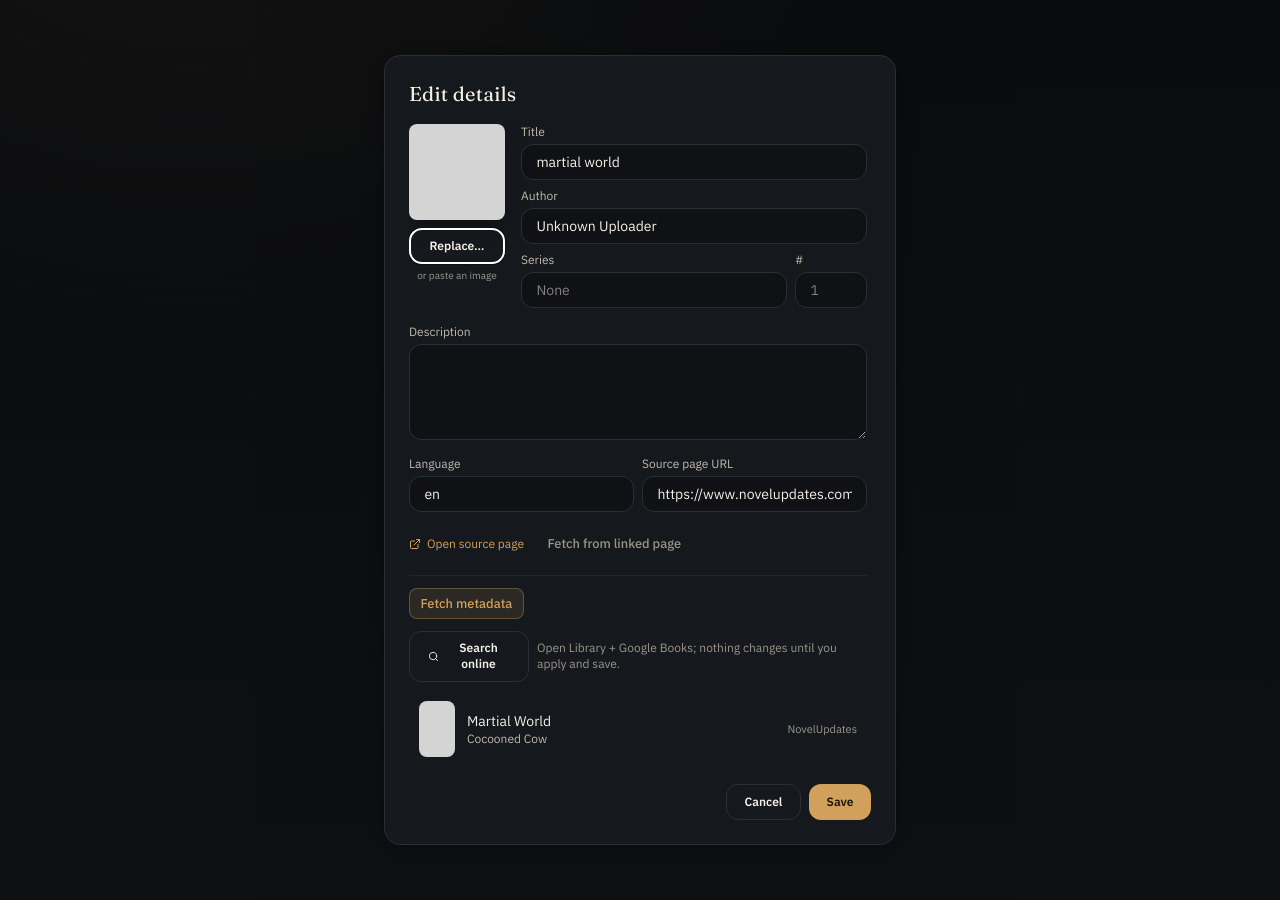
Scenario: EditBookDialog › fills candidate, source URL, and cover from an extension clipboard payload
The image size is (1280, 900).
Expected: the field labelled "Source page URL" holds "https://www.novelupdates.com/series/martial-world/", [642, 476, 867, 512]
Click the button "Martial World Cocooned Cow NovelUpdates".
click(437, 729)  # box [409, 694, 867, 764]
(page scrolled)
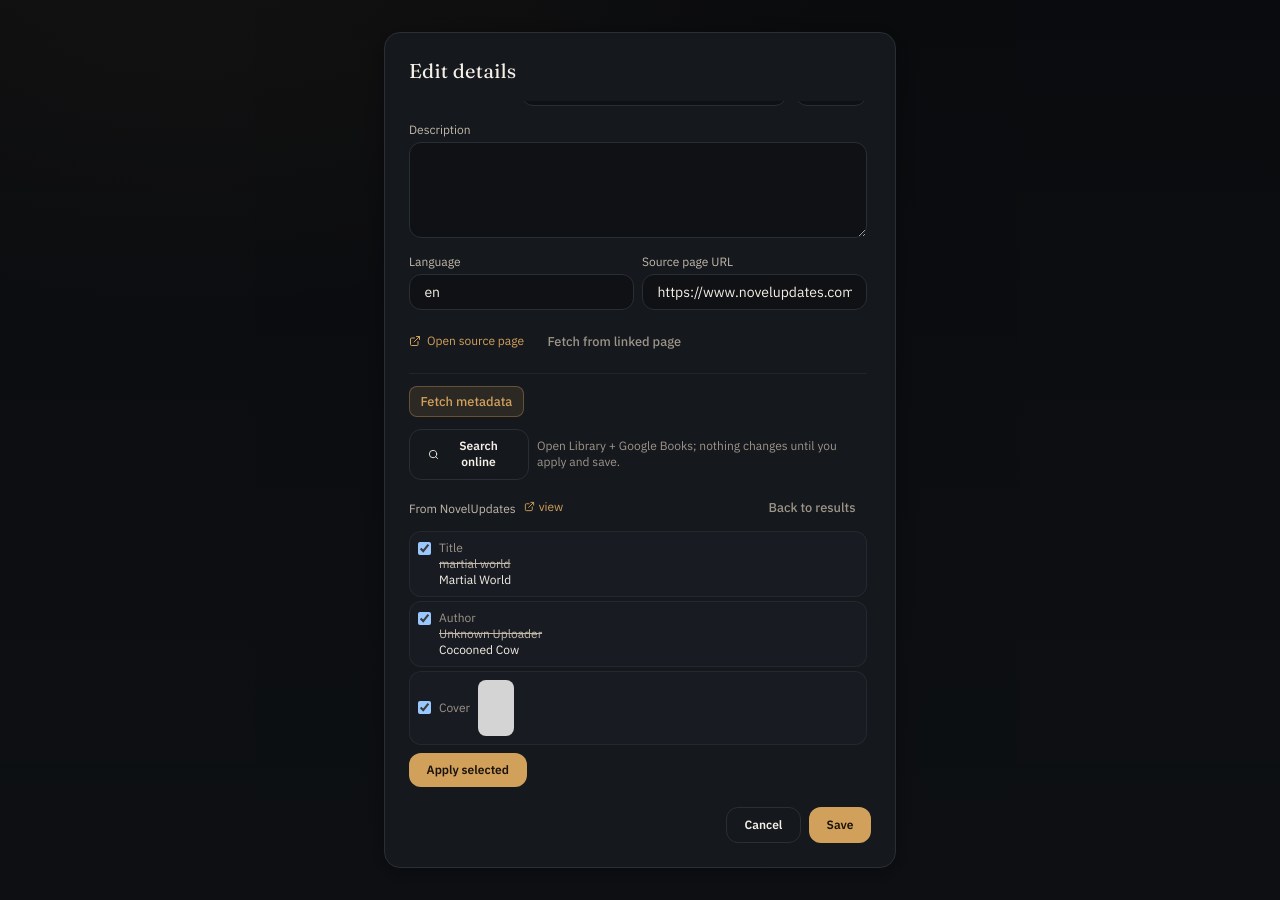
Click the button "Apply selected".
click(468, 770)  # box [409, 753, 527, 786]
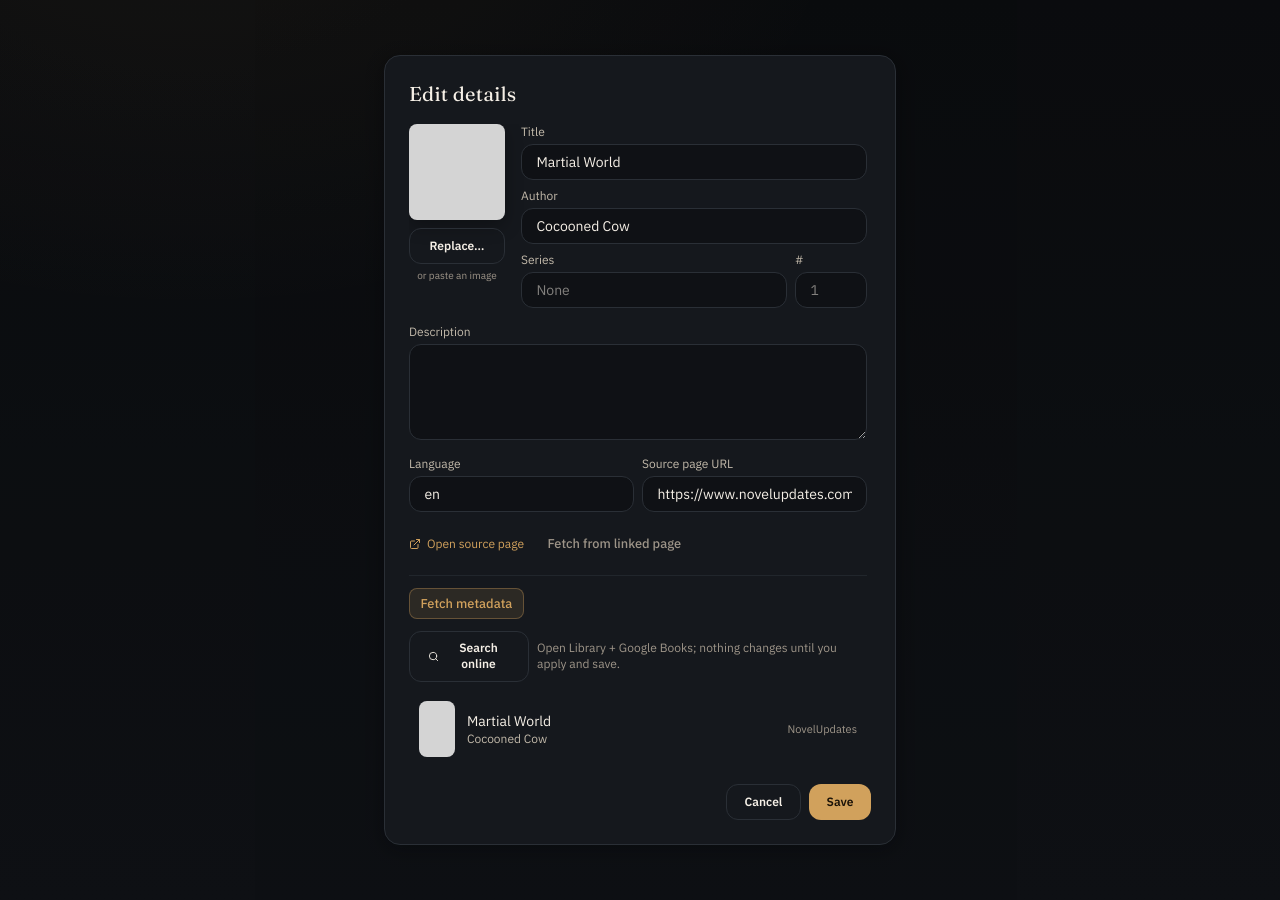
Expected: the field labelled "Title" holds "Martial World", [521, 144, 867, 180]
